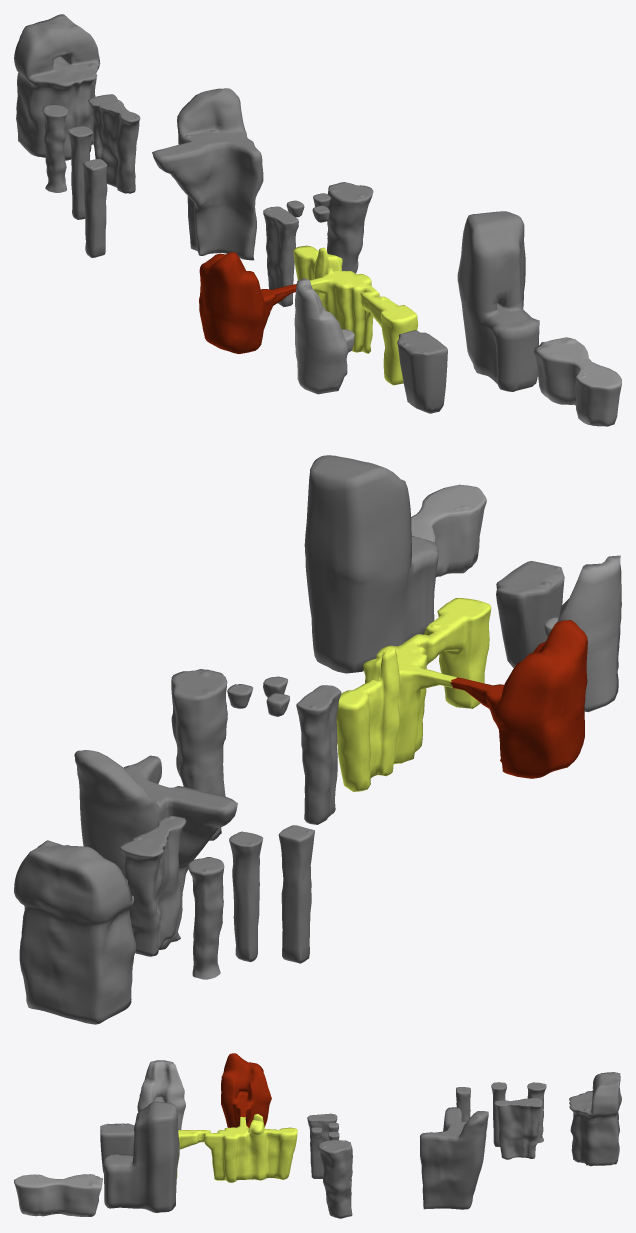
File: SuelosLvl01 (1).fbx
3 renders of one model, top to bottom at view 1: azimuth 30°, elevation 25°; view 2: azimuth 150°, elevation 25°; view 3: azimuth 270°, elevation 25°, orthographic. The views are drawn at different scales.
Parts seen in each view (by area): view 1: Suelo12Lvl01_low, Suelo05Lvl01_low, Suelo09Lvl01_low, Suelo03Lvl01_low, Suelo06-08Lvl01_low, Suelo01Lvl01_low, Suelo04Lvl1_low, Suelo10i11Lvl01_low, Suelo02_low; view 2: Suelo12Lvl01_low, Suelo05Lvl01_low, Suelo03Lvl01_low, Suelo06-08Lvl01_low, Suelo09Lvl01_low, Suelo10i11Lvl01_low, Suelo04Lvl1_low, Suelo02_low, Suelo01Lvl01_low; view 3: Suelo05Lvl01_low, Suelo12Lvl01_low, Suelo03Lvl01_low, Suelo09Lvl01_low, Suelo06-08Lvl01_low, Suelo01Lvl01_low, Suelo04Lvl1_low, Suelo02_low, Suelo10i11Lvl01_low.
Boxes of the visible parts, x1,y1,x2,y2 form: Suelo12Lvl01_low: (14,14,140,193); Suelo05Lvl01_low: (199,245,417,385); Suelo09Lvl01_low: (152,88,263,260); Suelo03Lvl01_low: (457,211,539,391); Suelo06-08Lvl01_low: (263,182,373,307); Suelo01Lvl01_low: (534,337,621,426); Suelo04Lvl1_low: (294,278,354,394); Suelo10i11Lvl01_low: (67,126,107,257); Suelo02_low: (397,330,447,413); Suelo12Lvl01_low: (14,816,224,1024); Suelo05Lvl01_low: (336,598,587,791); Suelo03Lvl01_low: (304,455,438,673); Suelo06-08Lvl01_low: (171,669,341,840); Suelo09Lvl01_low: (74,750,237,949); Suelo10i11Lvl01_low: (229,825,314,963); Suelo04Lvl1_low: (544,555,621,712); Suelo02_low: (496,561,564,667); Suelo01Lvl01_low: (411,484,486,576); Suelo05Lvl01_low: (176,1053,297,1182); Suelo12Lvl01_low: (494,1072,621,1166); Suelo03Lvl01_low: (103,1101,179,1212); Suelo09Lvl01_low: (420,1107,488,1209); Suelo06-08Lvl01_low: (307,1113,352,1218); Suelo01Lvl01_low: (14,1174,102,1216); Suelo04Lvl1_low: (137,1060,185,1129); Suelo02_low: (100,1123,134,1173); Suelo10i11Lvl01_low: (456,1082,506,1146).
Size of the model in its own units: 8072 by 4998 by 23285.
